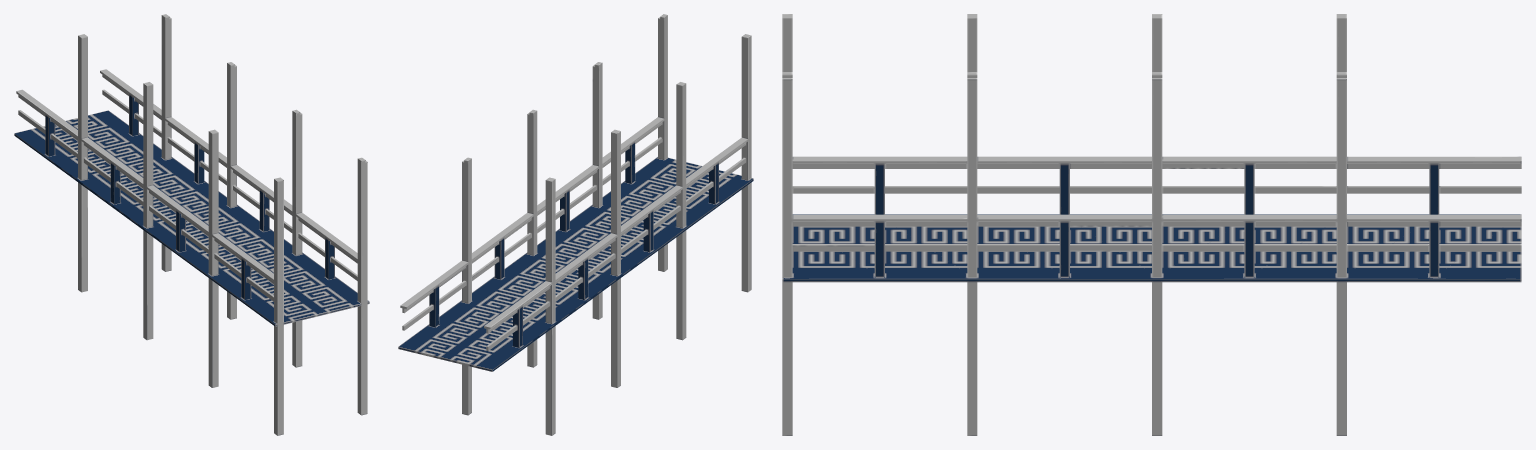
File: Trapiche-3.fbx
The picture shows the model from 3 angles, left to right: view 1: azimuth 30°, elevation 25°; view 2: azimuth 150°, elevation 25°; view 3: azimuth 270°, elevation 25°; orthographic projection. The views are drawn at different scales.
Visible parts, largest first — view 1: Trapiche-3.001; view 2: Trapiche-3.001; view 3: Trapiche-3.001.
Boxes of the visible parts, box(x1,y1,x2,y2) form: Trapiche-3.001: box(14, 14, 369, 435); Trapiche-3.001: box(398, 14, 753, 435); Trapiche-3.001: box(782, 14, 1521, 435).
Bounding box in the file's own units: 4.5 × 11.6 × 21.6.
Materials: 1 (1 with a texture image).
